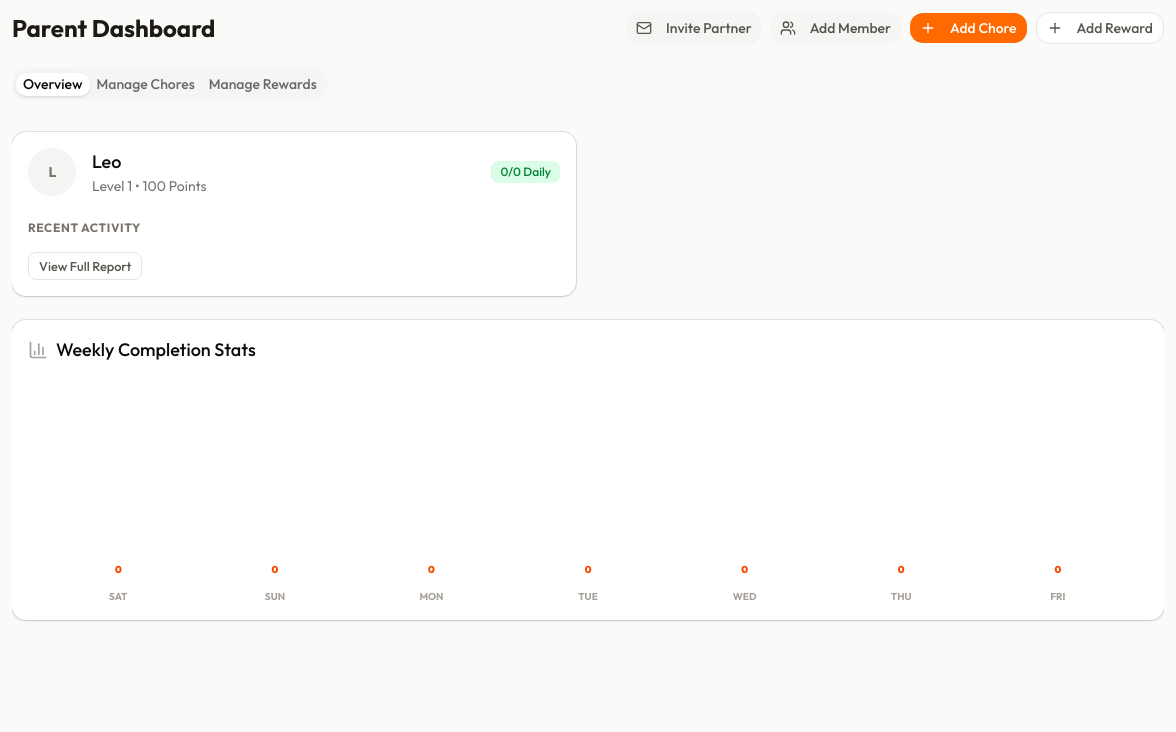
Test: P0 Production Readiness Fixes - Comprehensive Edge Cases › Issue 1 & 5: ParentDashboard Empty States & Restock › shows empty state for rewards when rewards array is explicitly empty
Click the tab "Manage Rewards": (263, 84) [202, 72, 324, 96]
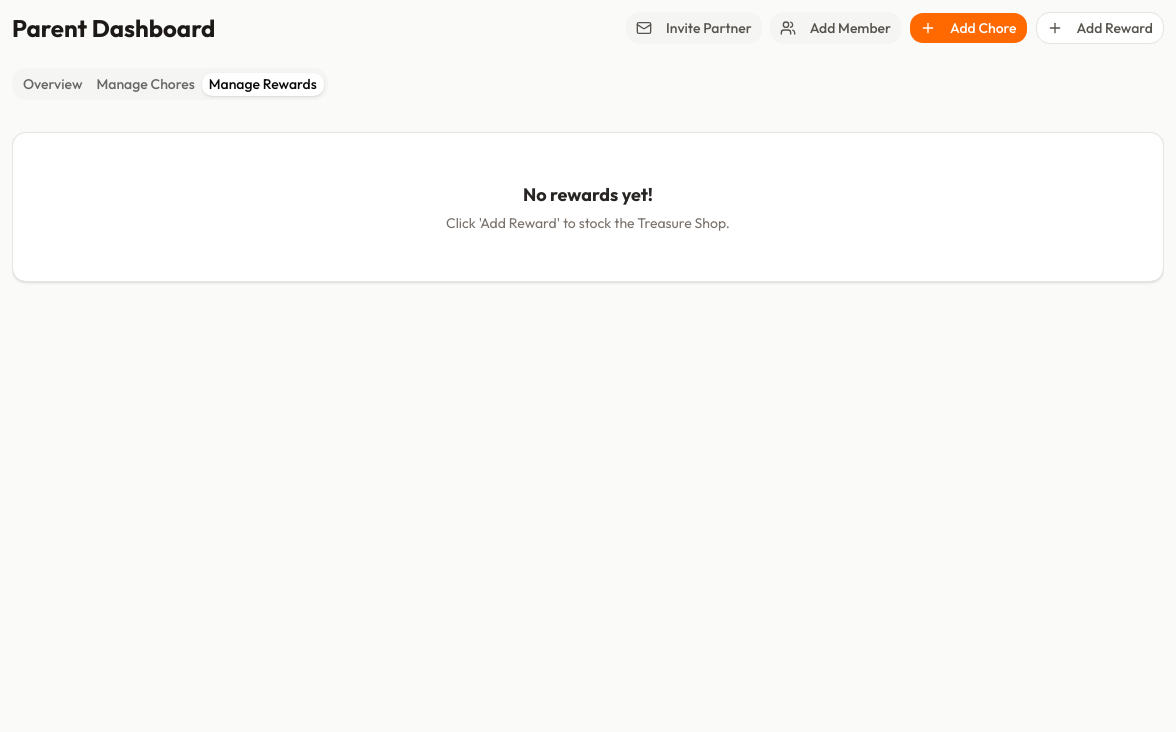
Expected: the text "No rewards yet!" is shown, [523, 181, 653, 209]
